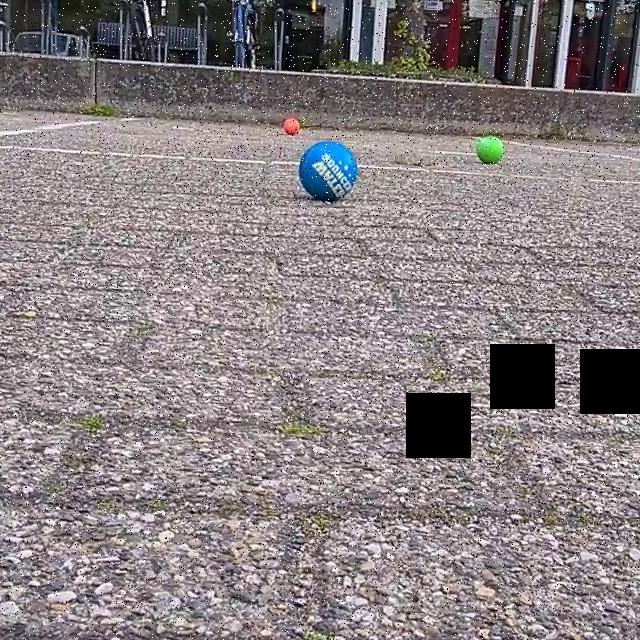ball: (472, 130, 503, 171), (279, 112, 306, 137)
